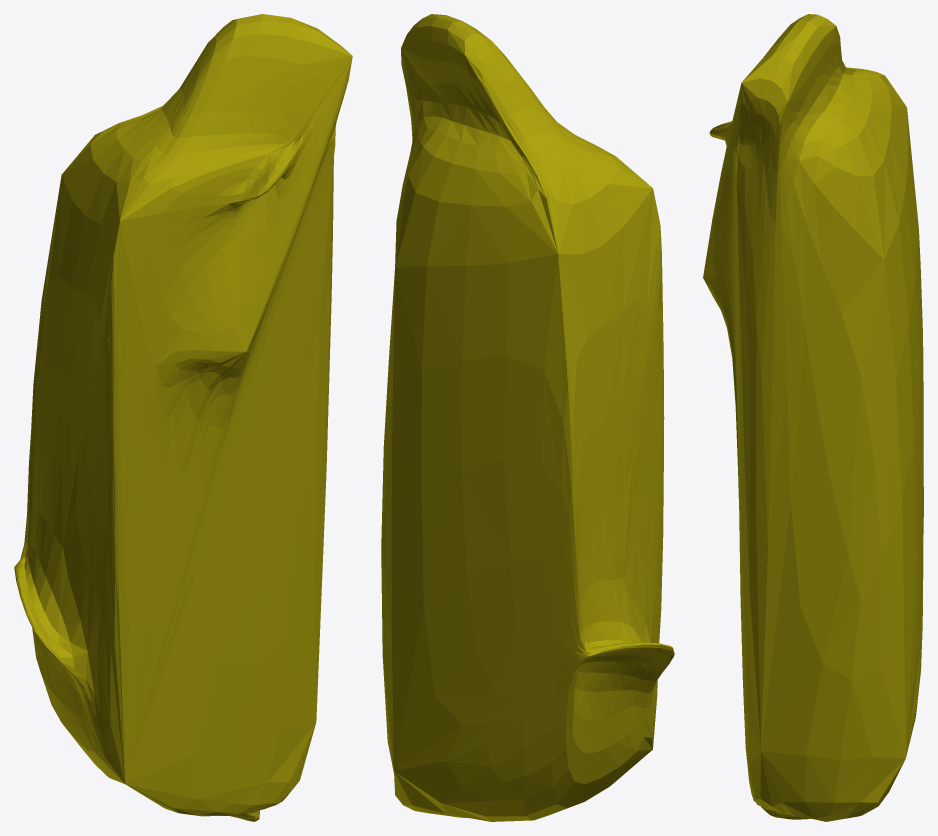
The picture shows the model from 3 angles, left to right: view 1: azimuth 30°, elevation 25°; view 2: azimuth 150°, elevation 25°; view 3: azimuth 270°, elevation 25°; orthographic projection. The views are drawn at different scales.
Parts seen in each view (by area): view 1: 460_Cube.1862; view 2: 460_Cube.1862; view 3: 460_Cube.1862.
Boxes of the visible parts, bbox=[...] form: 460_Cube.1862: bbox=[14, 14, 352, 821]; 460_Cube.1862: bbox=[381, 14, 674, 821]; 460_Cube.1862: bbox=[703, 14, 923, 821].
Size of the model in its own units: 5.48 by 14.34 by 3.56.
